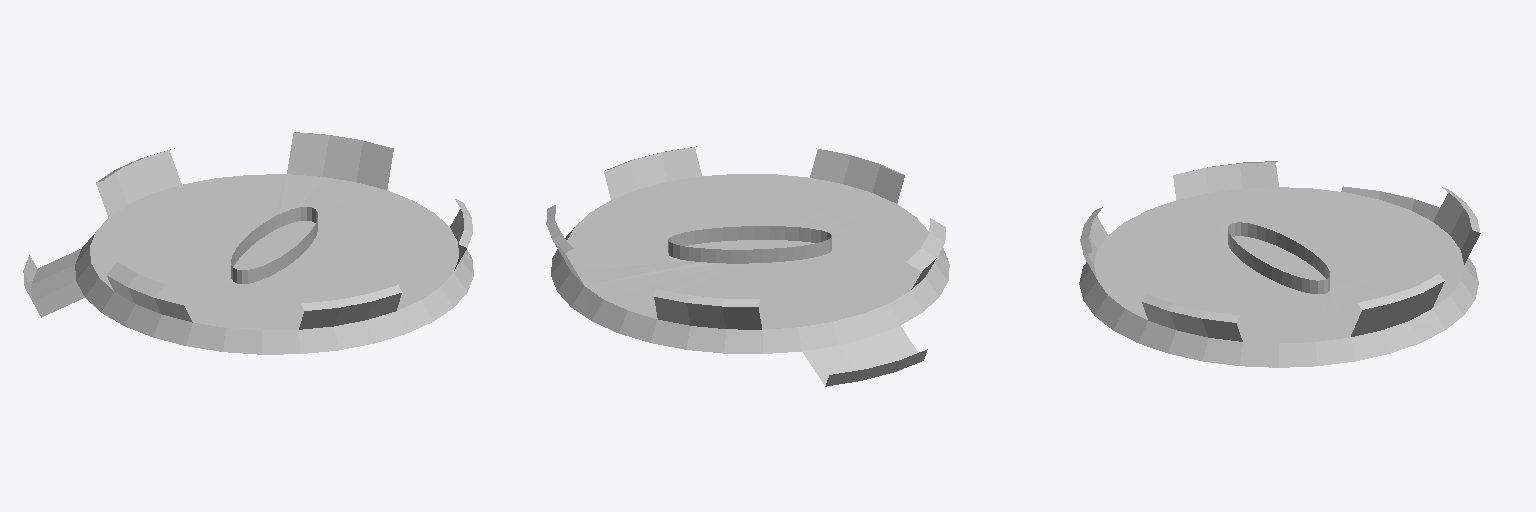
File: Something.obj
3 renders of one model, left to right at view 1: azimuth 30°, elevation 25°; view 2: azimuth 150°, elevation 25°; view 3: azimuth 270°, elevation 25°, orthographic.
Parts seen in each view (by area): view 1: Cylinder.002; view 2: Cylinder.002; view 3: Cylinder.002.
Part boxes in pixels (x1,y1,x2,y2): Cylinder.002: (23,132,473,354); Cylinder.002: (546,146,949,386); Cylinder.002: (1079,161,1480,367).
Bounding box in the file's own units: 44.18 × 8.39 × 40.17.